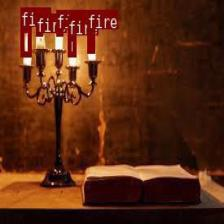fire: (20, 26, 30, 56), (67, 35, 76, 56), (87, 29, 94, 52), (56, 8, 62, 34), (36, 14, 42, 36)
